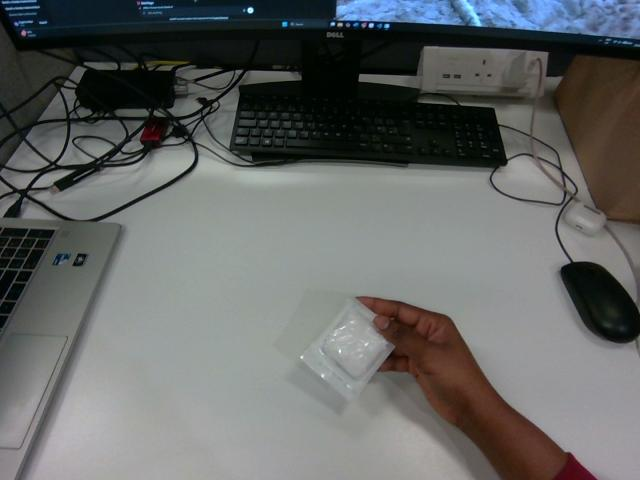gauze: (301, 298, 393, 399)
